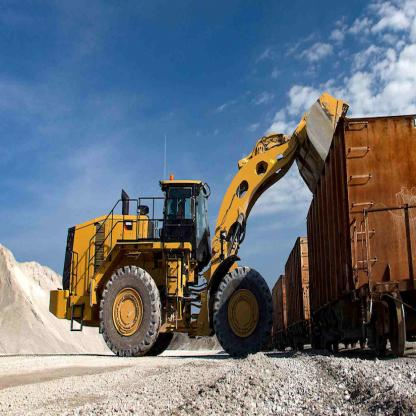bull_dozer/loader/grader: (41, 82, 351, 381)
